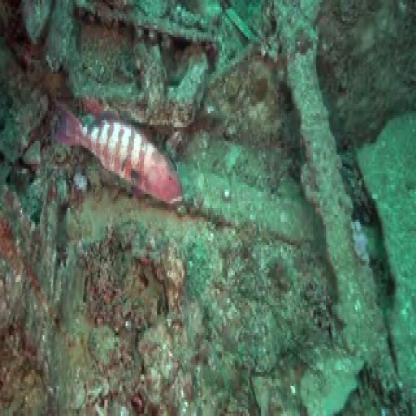Serranidae -Groupers-: (53, 87, 186, 209)
